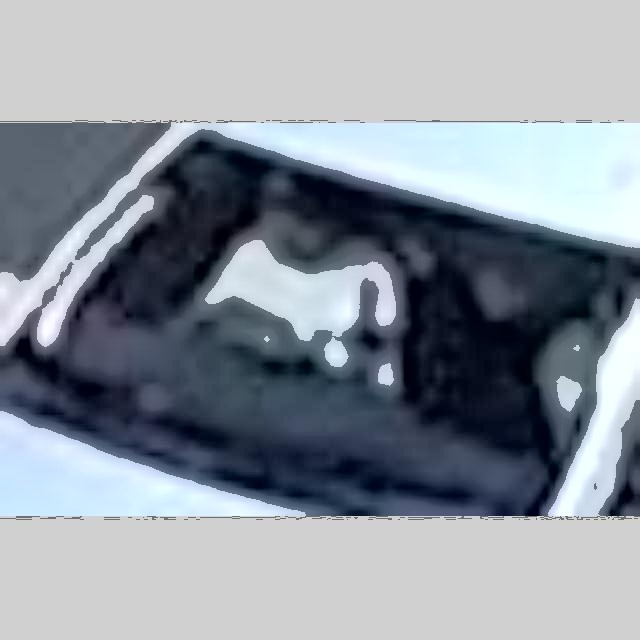tidak-pakai: (156, 197, 386, 402)
